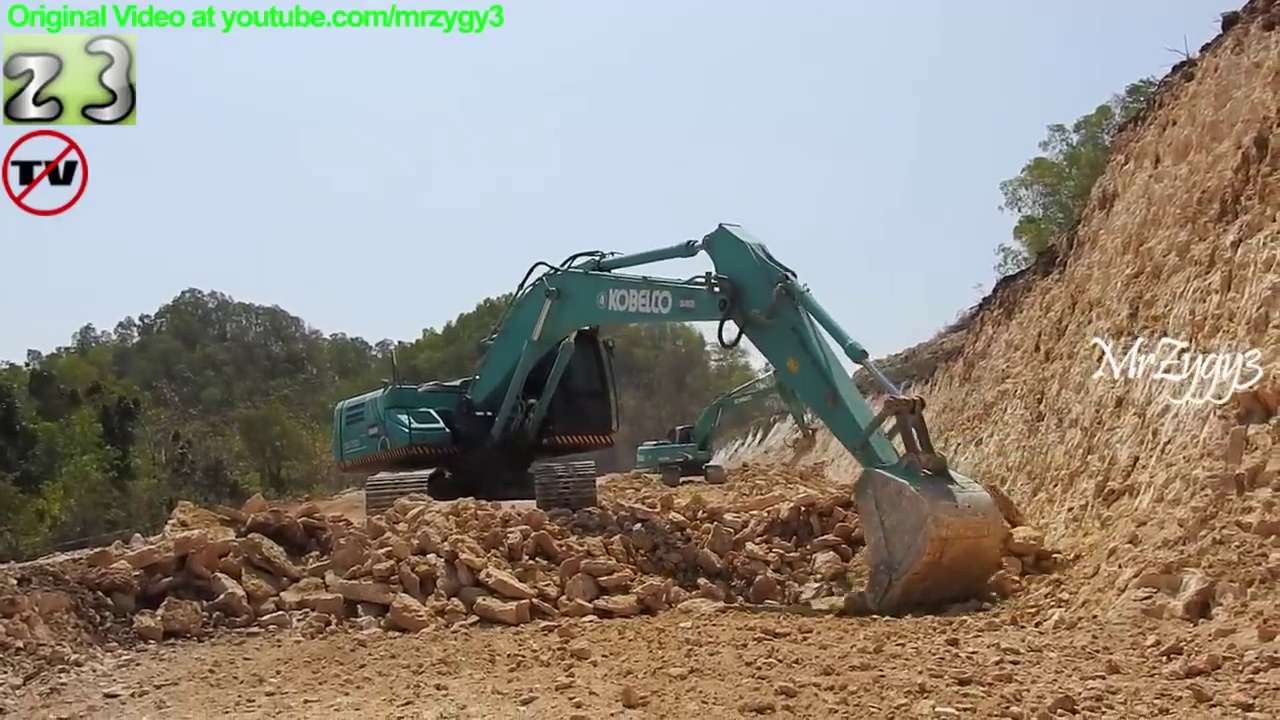excavator: (330, 220, 1019, 621)
excavator breaker: (630, 362, 822, 488)
